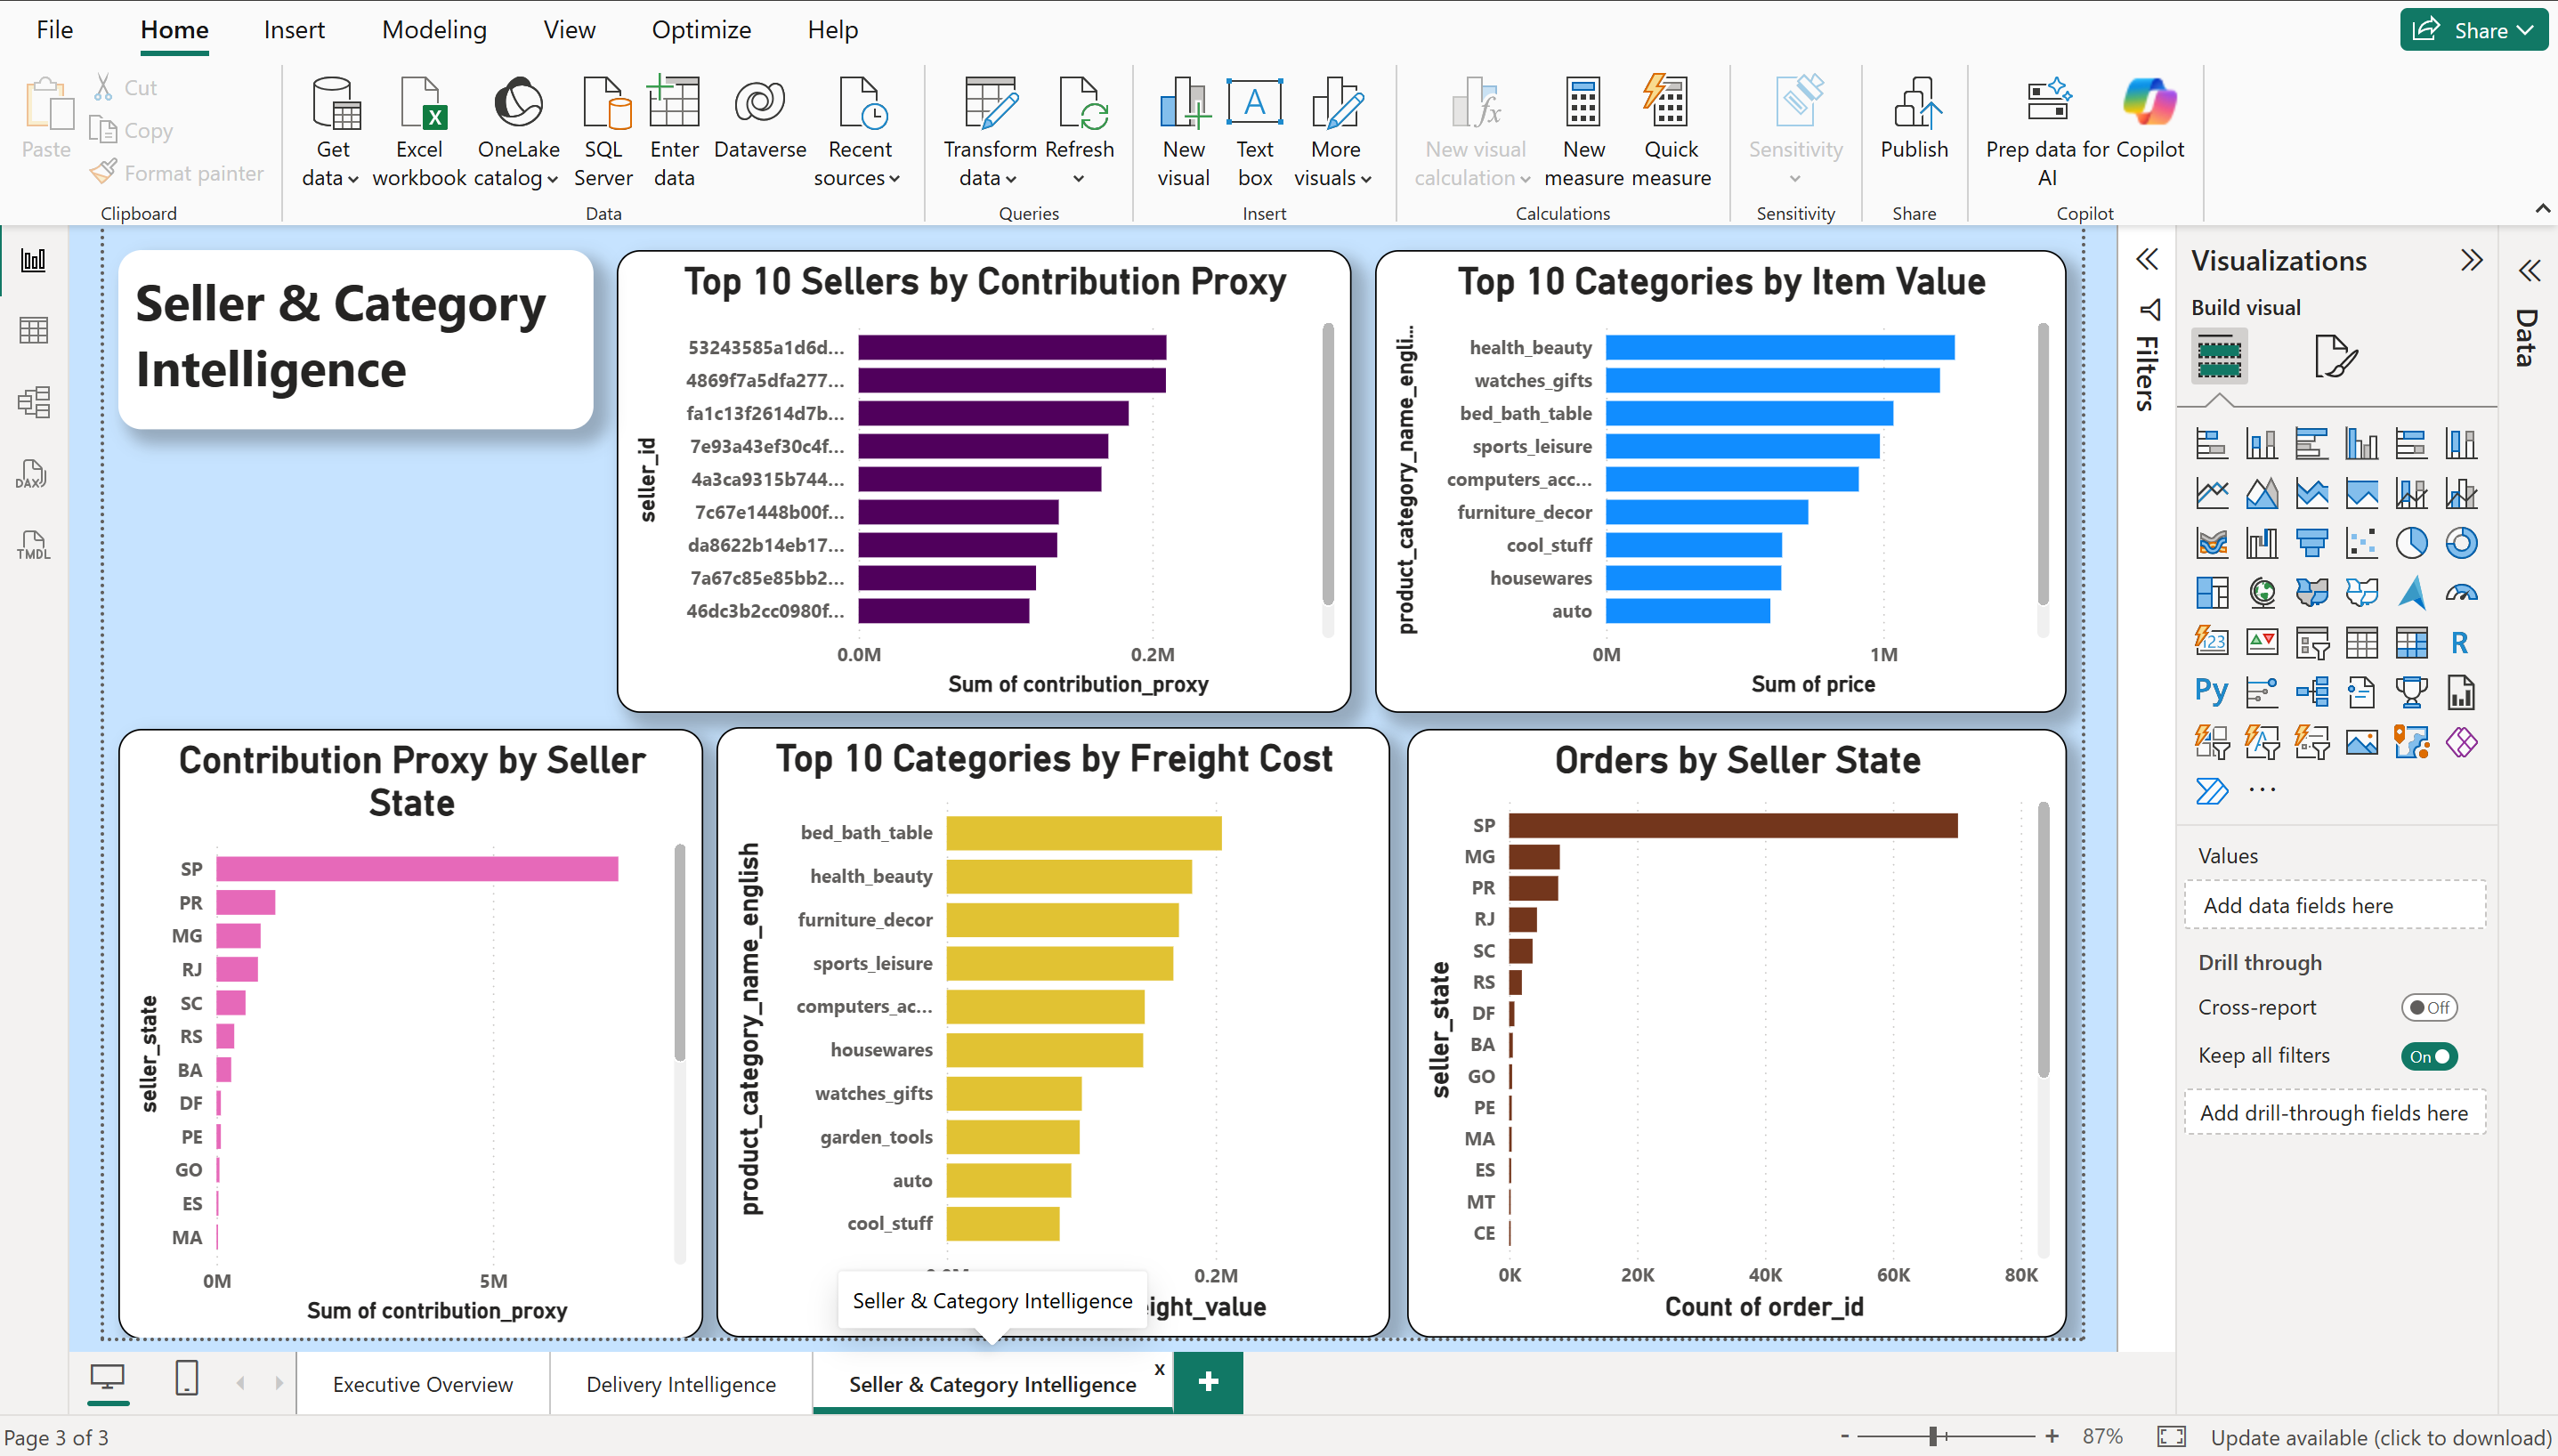

What the dashboard file says about the page in this screenshot:
{"tool":"powerbi","page":{"name":"Seller & Category Intelligence","canvas":[1280,720],"ordinal":2},"visuals":[{"type":"clusteredBarChart","title":"Top 10 Sellers by Contribution Proxy","fields":{"Y":["Sum(order_items_enriched.contribution_proxy)"],"Category":["order_items_enriched.seller_id"]},"box":[331.5,16.6,475.5,299.6],"z":0},{"type":"clusteredBarChart","title":"Top 10 Categories by Item Value","fields":{"Category":["order_items_enriched.product_category_name_english"],"Y":["Sum(order_items_enriched.price)"]},"box":[822.3,16.6,447.5,299.6],"z":1000},{"type":"clusteredBarChart","title":"Contribution Proxy by Seller State","fields":{"Category":["order_items_enriched.seller_state"],"Y":["Sum(order_items_enriched.contribution_proxy)"]},"box":[8.9,326.4,378.6,395.2],"z":2000},{"type":"clusteredBarChart","title":"Top 10 Categories by Freight Cost","fields":{"Category":["order_items_enriched.product_category_name_english"],"Y":["Sum(order_items_enriched.freight_value)"]},"box":[396.5,325.1,436,395.2],"z":3000},{"type":"clusteredBarChart","title":"Orders by Seller State","fields":{"Category":["order_items_enriched.seller_state"],"Y":["Count(order_items_enriched.order_id)"]},"box":[842.7,326.4,427.1,393.9],"z":4000},{"type":"textbox","box":[8.9,16.6,307.3,116],"z":5000}]}

Visuals, with their boxes on the page's 1280x720 design canvas (x1, y1, x2, y2). These are canvas units, not pixel positions in the 2558x1456 screenshot, which may show the page scaled, cropped or inside an application window:
"Top 10 Sellers by Contribution Proxy" clusteredBarChart: 332,17,807,316
"Top 10 Categories by Item Value" clusteredBarChart: 822,17,1270,316
"Contribution Proxy by Seller State" clusteredBarChart: 9,326,388,722
"Top 10 Categories by Freight Cost" clusteredBarChart: 396,325,832,720
"Orders by Seller State" clusteredBarChart: 843,326,1270,720
textbox: 9,17,316,133
